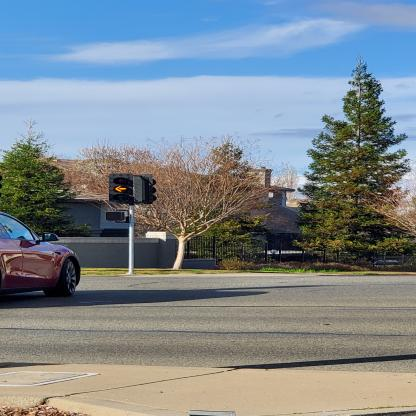left-yellow: (110, 173, 133, 203)
